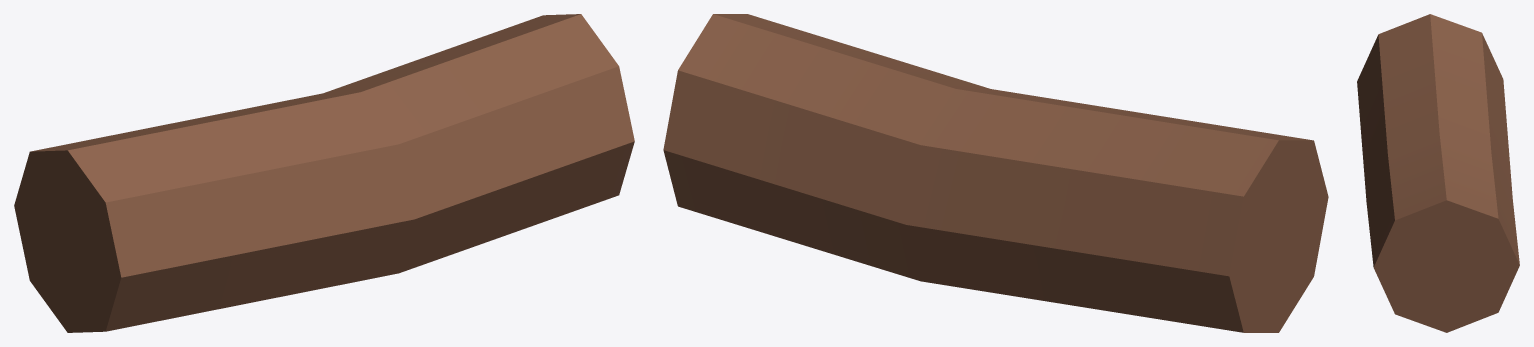
Rendered from SingleWood.fbx.
3 views of the same model, side by side, from view 1: azimuth 30°, elevation 25°; view 2: azimuth 150°, elevation 25°; view 3: azimuth 270°, elevation 25° (orthographic). The views are drawn at different scales.
Parts seen in each view (by area): view 1: polySurface9; view 2: polySurface9; view 3: polySurface9.
Boxes of the visible parts, x1,y1,x2,y2 form: polySurface9: [14, 14, 634, 332]; polySurface9: [663, 14, 1328, 332]; polySurface9: [1357, 14, 1519, 332].
Bounding box in the file's own units: 1.52 × 0.5511 × 0.5537.
